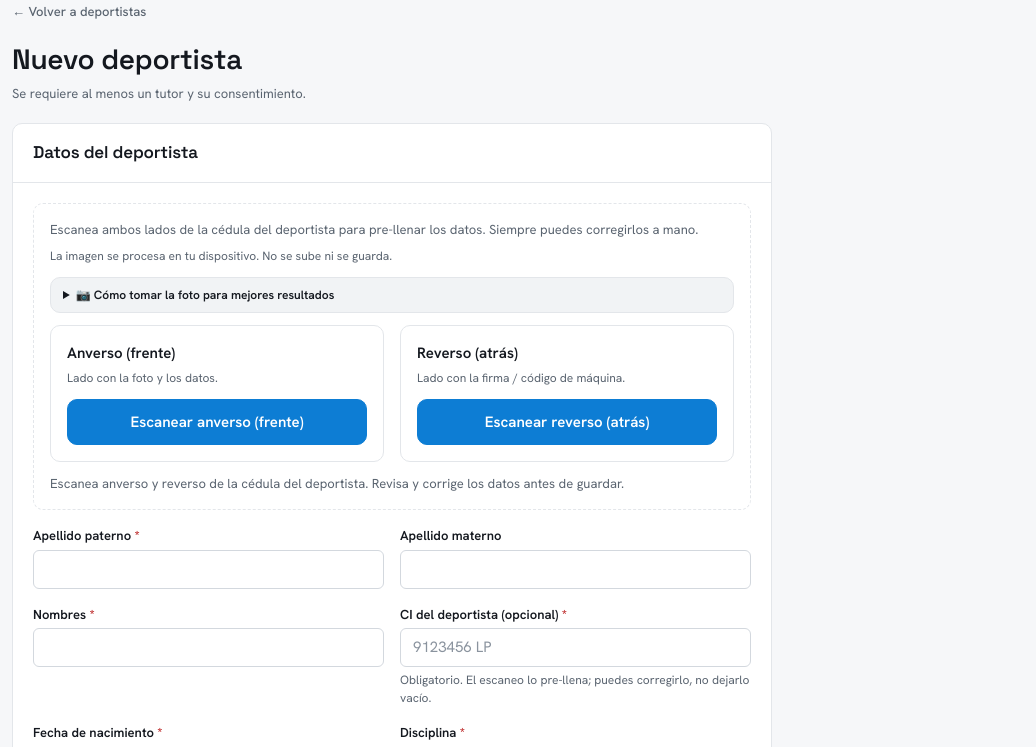
Test: NuevoDeportista — OCR + recuperar-por-CI + disciplina (S3) › recupera el registro anterior del deportista al ingresar un CI existente
This screenshot has width=1036, height=747.
Type "9876543" into the field labelled "CI del deportista (opcional) *".
click(576, 648); type("9876543")  # box [400,628,751,667]
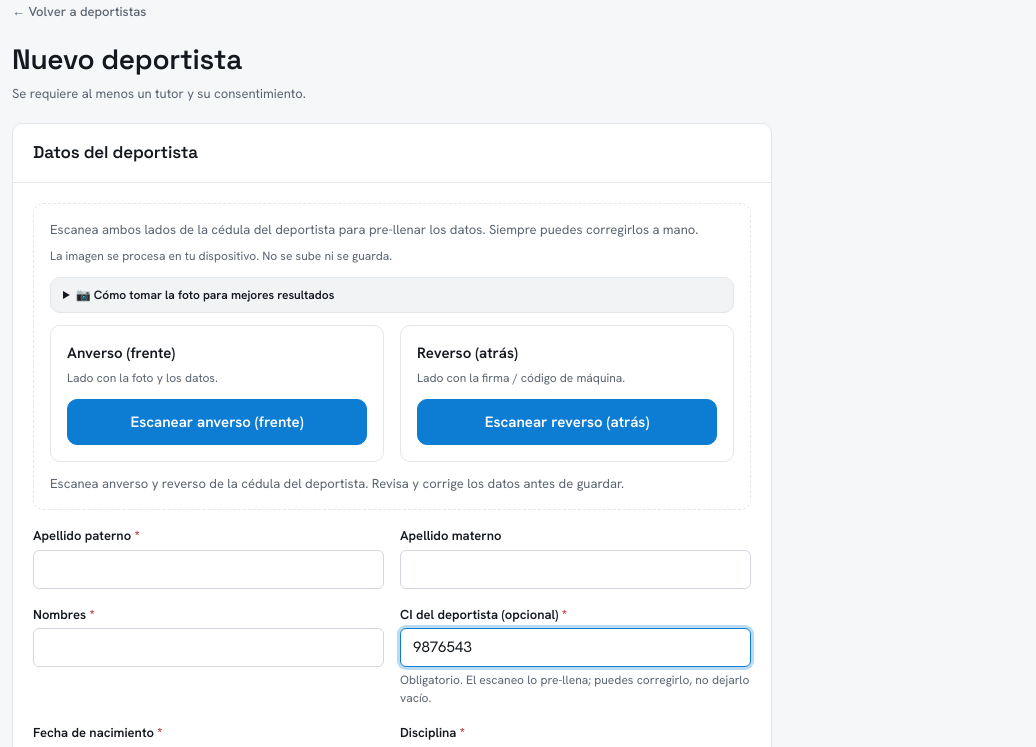
Press Tab
(page scrolled)
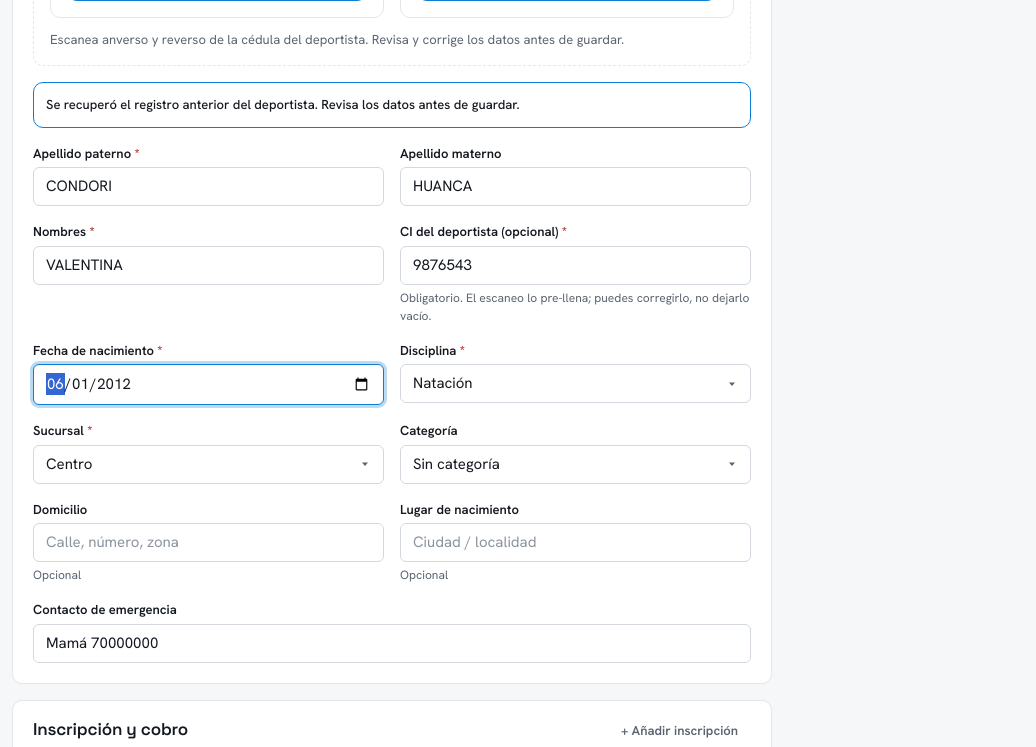
Expected: the text "Se recuperó el registro anterior del deportista" is shown, [46,96,520,113]
Expected: the field labelled "Apellido paterno *" holds "CONDORI", [33,167,384,206]
Expected: the dropdown labelled "Disciplina *" shows "Natación", [400,364,751,403]
